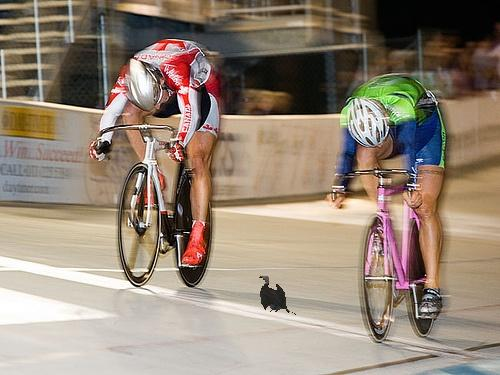tampered: (260, 277, 314, 315)
